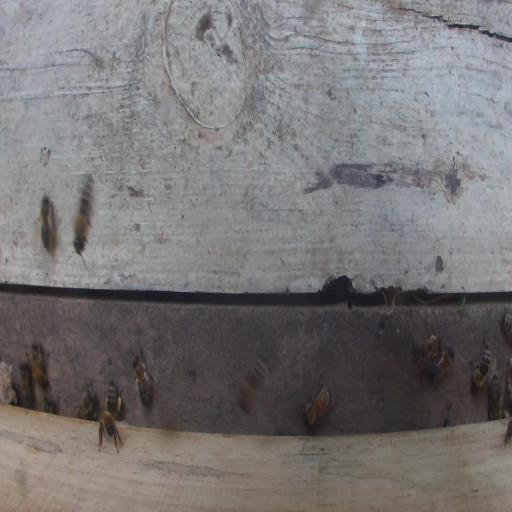bee: (68, 172, 98, 257), (411, 320, 443, 371), (466, 332, 491, 391), (303, 383, 333, 429), (96, 408, 125, 454), (34, 193, 55, 253), (130, 355, 153, 407), (30, 338, 52, 391), (425, 344, 455, 382), (485, 372, 504, 419), (104, 379, 124, 422), (78, 378, 96, 420), (495, 305, 511, 348), (17, 361, 31, 405)
